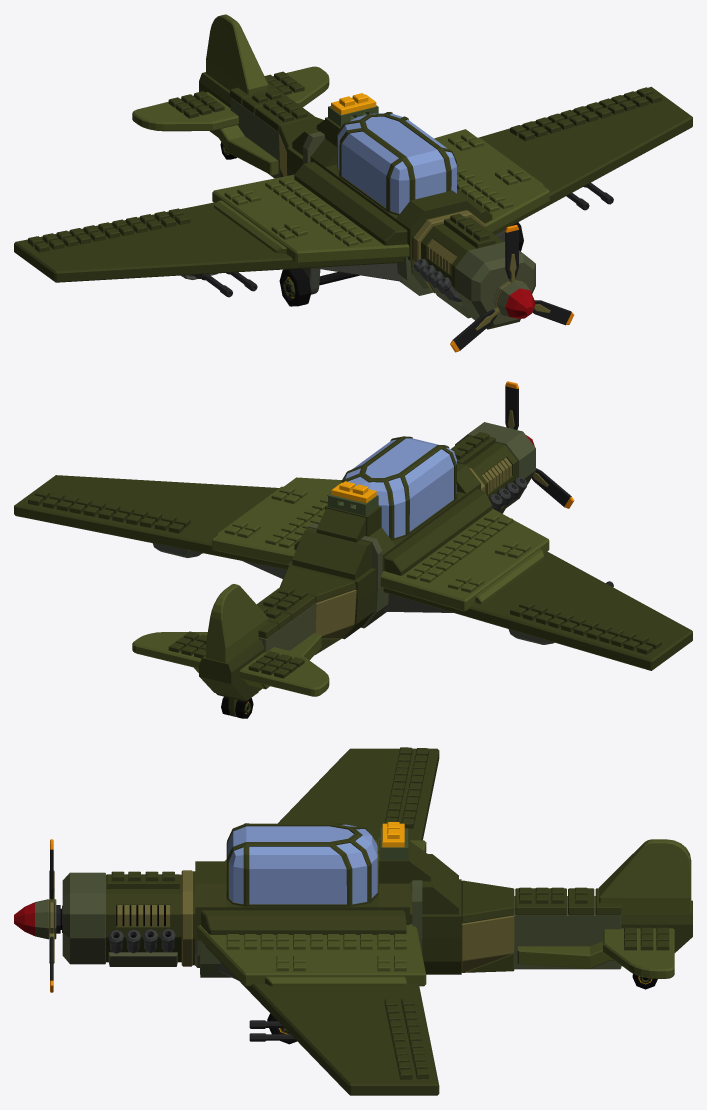
The model's file is LightAttackPlane_001.fbx.
The picture shows the model from 3 angles, top to bottom: view 1: azimuth 30°, elevation 25°; view 2: azimuth 150°, elevation 25°; view 3: azimuth 270°, elevation 25°; orthographic projection. The views are drawn at different scales.
Visible parts, largest first — view 1: PlaneBody, PlaneTail, FightDeck, Wing_P01_Right, Wing_P01_Left, PropellerBase, EngineBlock, Propeller, Wheel_FR, Axle_Front, LegoPiece, Gun_Right; view 2: PlaneBody, PlaneTail, FightDeck, Wing_P01_Right, Wing_P01_Left, EngineBlock, PropellerBase, Propeller, LegoPiece; view 3: PlaneBody, PlaneTail, FightDeck, Wing_P01_Left, EngineBlock, PropellerBase, Propeller, Gun_Left, LegoPiece.
Boxes of the visible parts, box(x1,y1,x2,y2) form: PlaneBody: box(14, 86, 692, 295); PlaneTail: box(132, 14, 329, 178); FightDeck: box(310, 105, 480, 260); Wing_P01_Right: box(212, 174, 409, 263); Wing_P01_Left: box(434, 129, 549, 232); PropellerBase: box(455, 242, 535, 329); EngineBlock: box(413, 210, 503, 318); Propeller: box(450, 225, 574, 352); Wheel_FR: box(279, 268, 311, 306); Axle_Front: box(285, 232, 505, 294); LegoPiece: box(331, 93, 376, 114); Gun_Right: box(181, 272, 257, 297); PlaneBody: box(14, 475, 692, 670); PlaneTail: box(132, 566, 356, 700); FightDeck: box(316, 436, 480, 571); Wing_P01_Right: box(380, 508, 549, 611); Wing_P01_Left: box(212, 477, 341, 564); EngineBlock: box(451, 432, 527, 513); PropellerBase: box(455, 422, 535, 507); Propeller: box(505, 381, 574, 508); LegoPiece: box(331, 481, 376, 503); PlaneBody: box(193, 747, 461, 1095); PlaneTail: box(461, 839, 692, 978); FightDeck: box(193, 823, 430, 940); Wing_P01_Left: box(197, 924, 426, 986); EngineBlock: box(106, 870, 192, 966); PropellerBase: box(14, 872, 105, 964); Propeller: box(49, 839, 54, 992); Gun_Left: box(249, 1020, 296, 1041); LegoPiece: box(382, 822, 404, 847).
Size of the model in its own units: 2066 by 453 by 1762.
